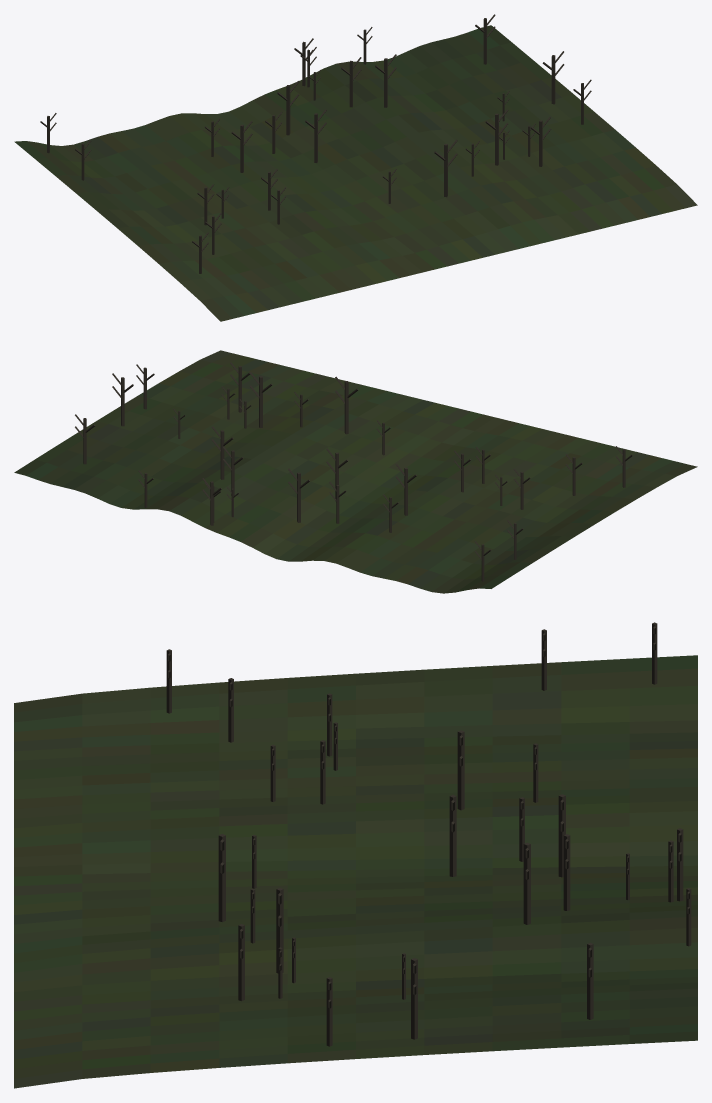
The model's file is bg_swamp_ridge_1_idle.glb.
3 renders of one model, top to bottom at view 1: azimuth 30°, elevation 25°; view 2: azimuth 150°, elevation 25°; view 3: azimuth 270°, elevation 25°, orthographic. The views are drawn at different scales.
Parts seen in each view (by area): view 1: ridge; view 2: ridge; view 3: ridge.
Part boxes in pixels (x1,y1,x2,y2): ridge: (14, 14, 697, 321); ridge: (14, 350, 697, 593); ridge: (14, 622, 697, 1088).
Bounding box in the file's own units: 40 × 5.9 × 30.
